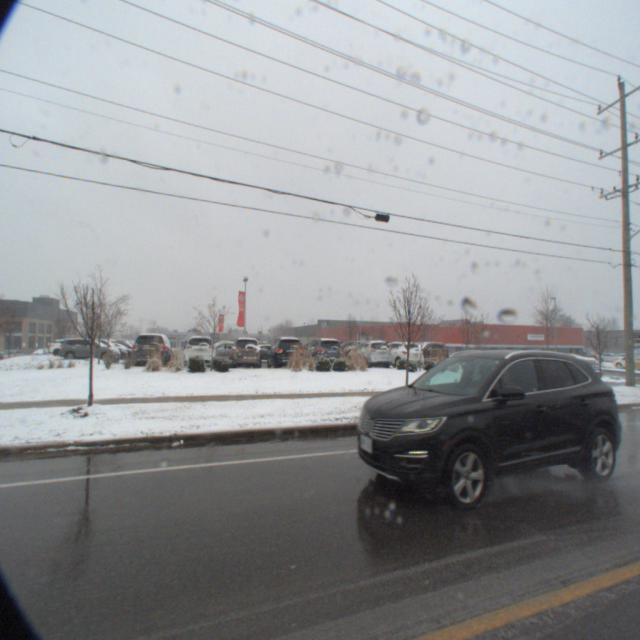Car: (121, 330, 171, 376), (370, 339, 426, 372), (346, 337, 394, 372), (45, 337, 111, 362), (262, 335, 304, 374), (179, 334, 215, 377), (300, 336, 344, 371), (226, 334, 262, 376), (195, 342, 243, 365)
